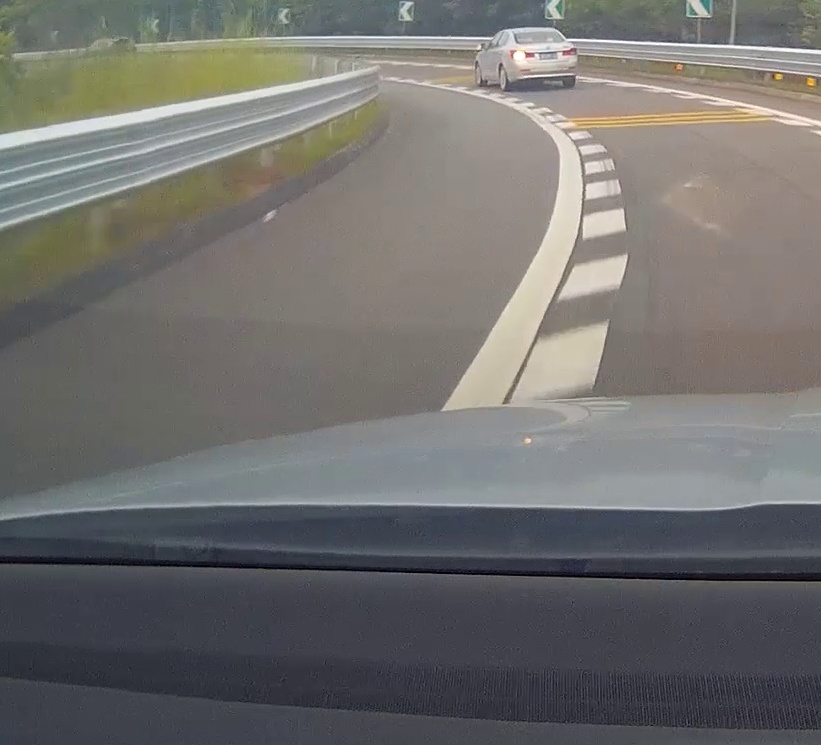L_light: (510, 50, 534, 59)
R_light: (562, 47, 577, 55)
T_light: (537, 38, 549, 43)
day-left: (509, 28, 578, 91)
